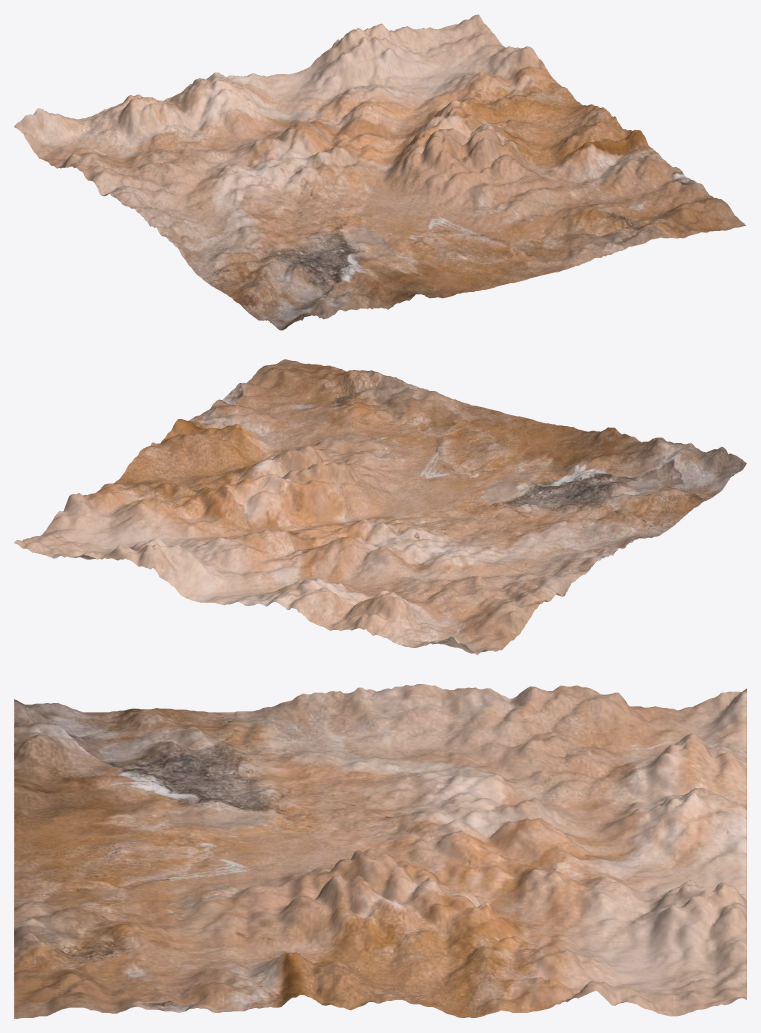
File: Terrain Model.FBX
The picture shows the model from 3 angles, top to bottom: view 1: azimuth 30°, elevation 25°; view 2: azimuth 150°, elevation 25°; view 3: azimuth 270°, elevation 25°; orthographic projection. The views are drawn at different scales.
Parts seen in each view (by area): view 1: ground01; view 2: ground01; view 3: ground01.
Boxes of the visible parts, x1,y1,x2,y2 form: ground01: (14, 14, 746, 330); ground01: (14, 359, 746, 655); ground01: (14, 684, 746, 1018).
Bounding box in the file's own units: 545 × 42.35 × 550.
